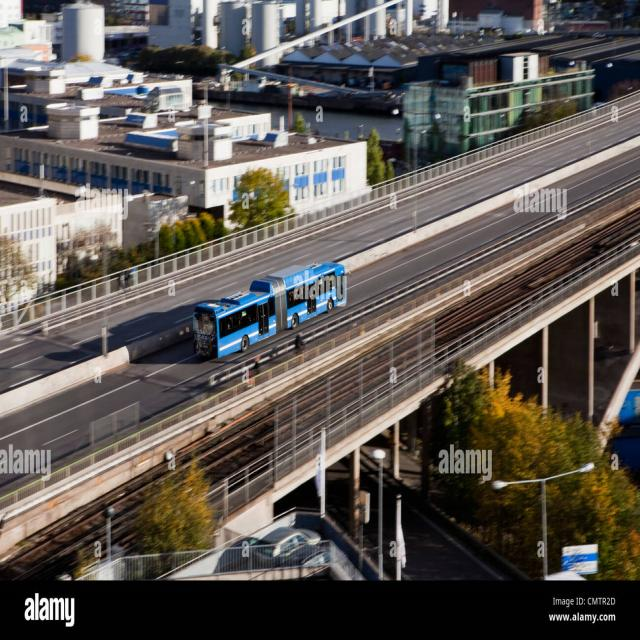BUS: (190, 274, 277, 378), (295, 248, 346, 358)
